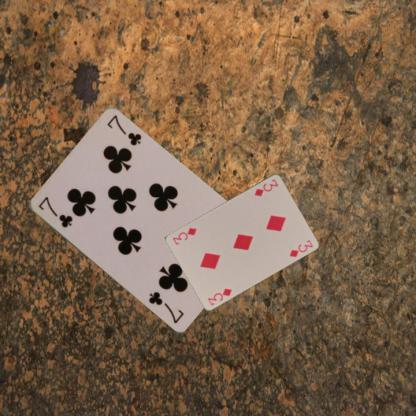3d: (252, 176, 280, 198), (205, 286, 233, 306)
7c: (35, 194, 74, 230)
